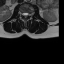CCS_normal: (24, 10, 26, 19)
LFS_normal: (28, 12, 30, 17)
LLS_normal: (26, 10, 28, 17)
RFS_normal: (20, 10, 22, 17)
RLS_normal: (22, 10, 24, 17)
